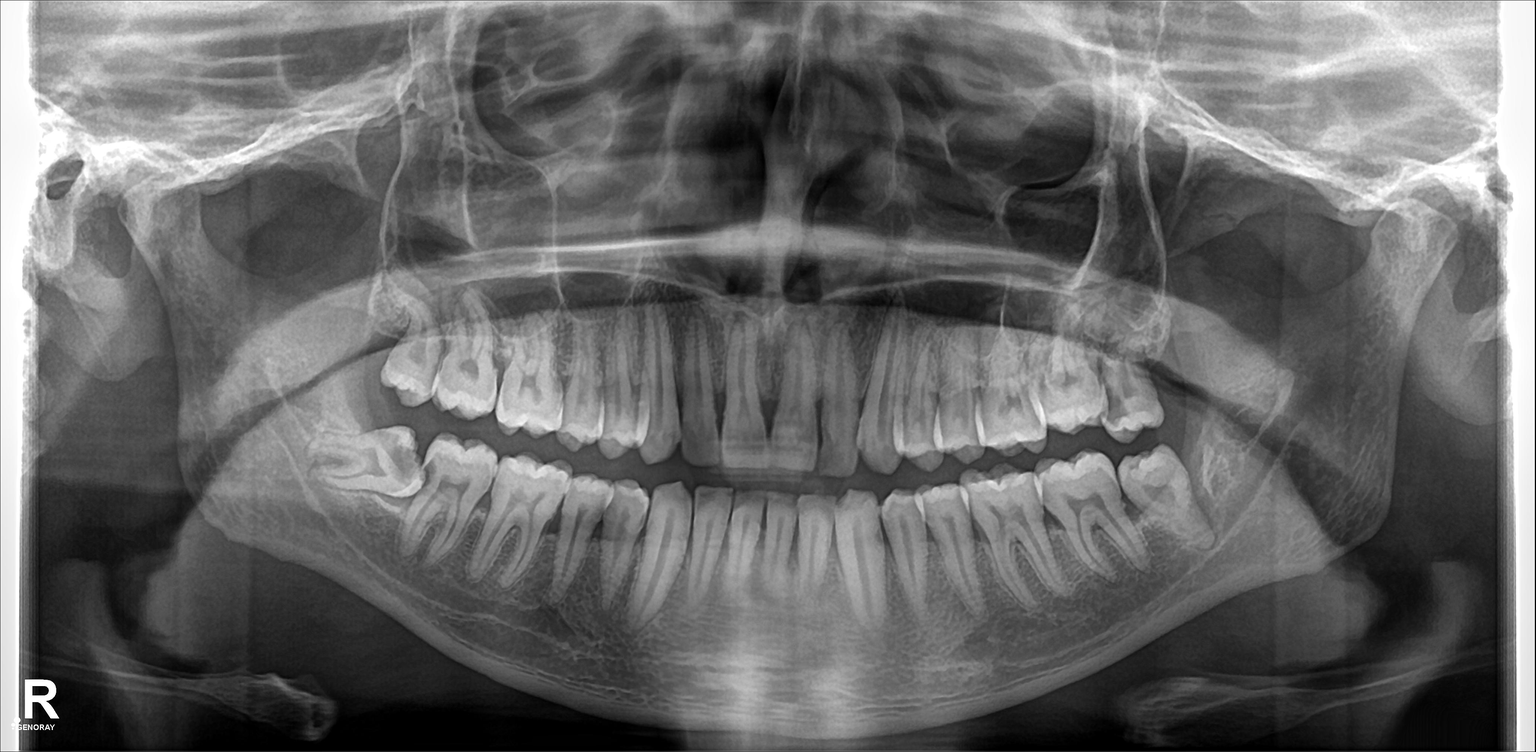Dental Caries: (1102, 387, 1126, 426)
Impacted Third Molar: (309, 432, 417, 496)
